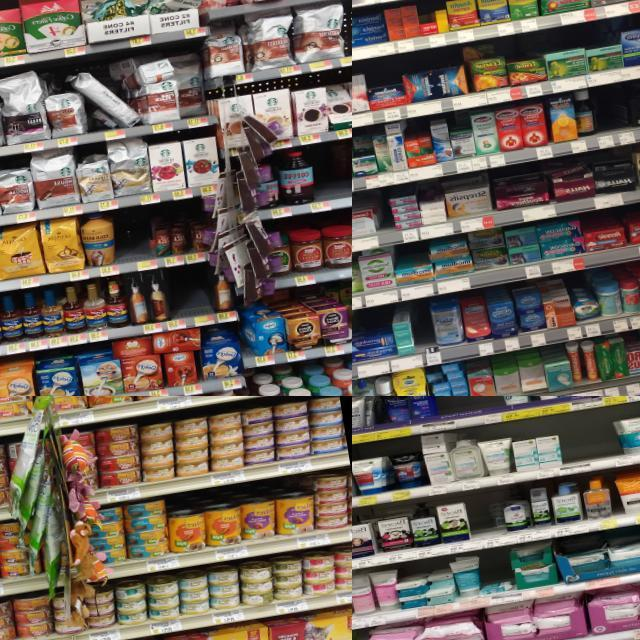empty: (558, 416, 618, 474), (114, 210, 154, 274), (308, 144, 344, 212), (435, 396, 501, 431), (162, 266, 192, 331), (185, 266, 215, 328), (589, 86, 619, 148), (410, 300, 438, 366), (466, 497, 492, 550), (378, 188, 397, 245)
